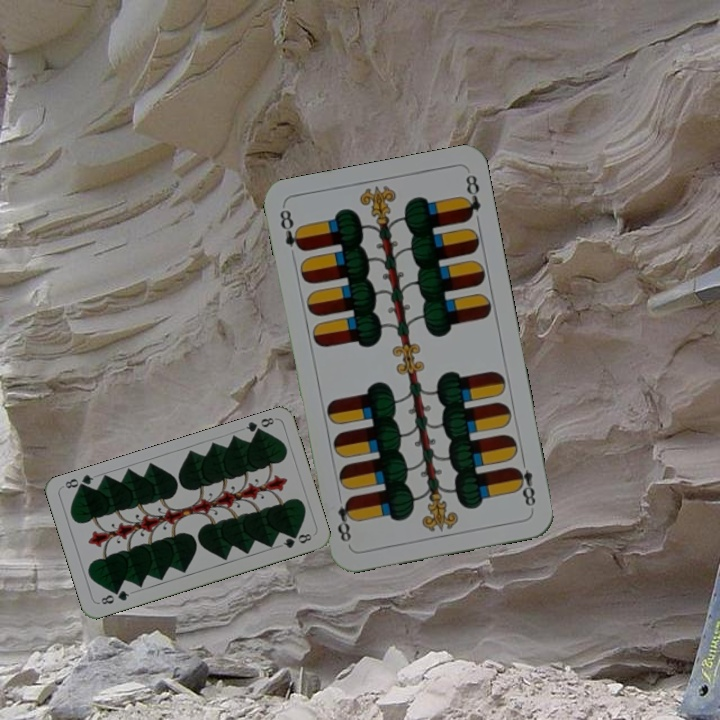E8: (510, 453, 538, 509), (276, 205, 306, 254)
G8: (242, 413, 278, 438), (97, 586, 132, 607)
